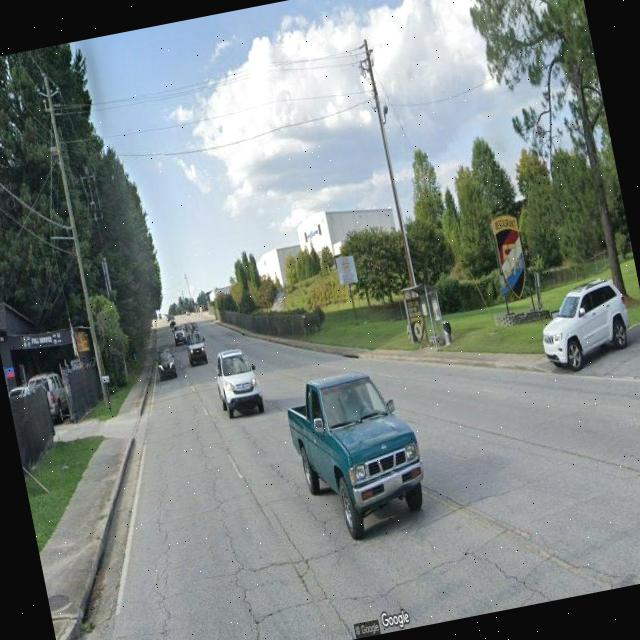seating: (429, 332, 444, 350)
shelter: (400, 282, 450, 356)
trash_can: (441, 320, 453, 345)
